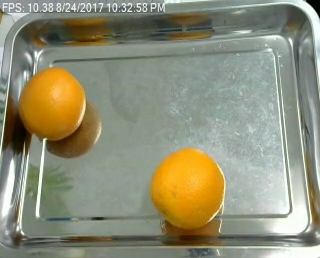Orange: (150, 148, 225, 229), (17, 67, 85, 140)
